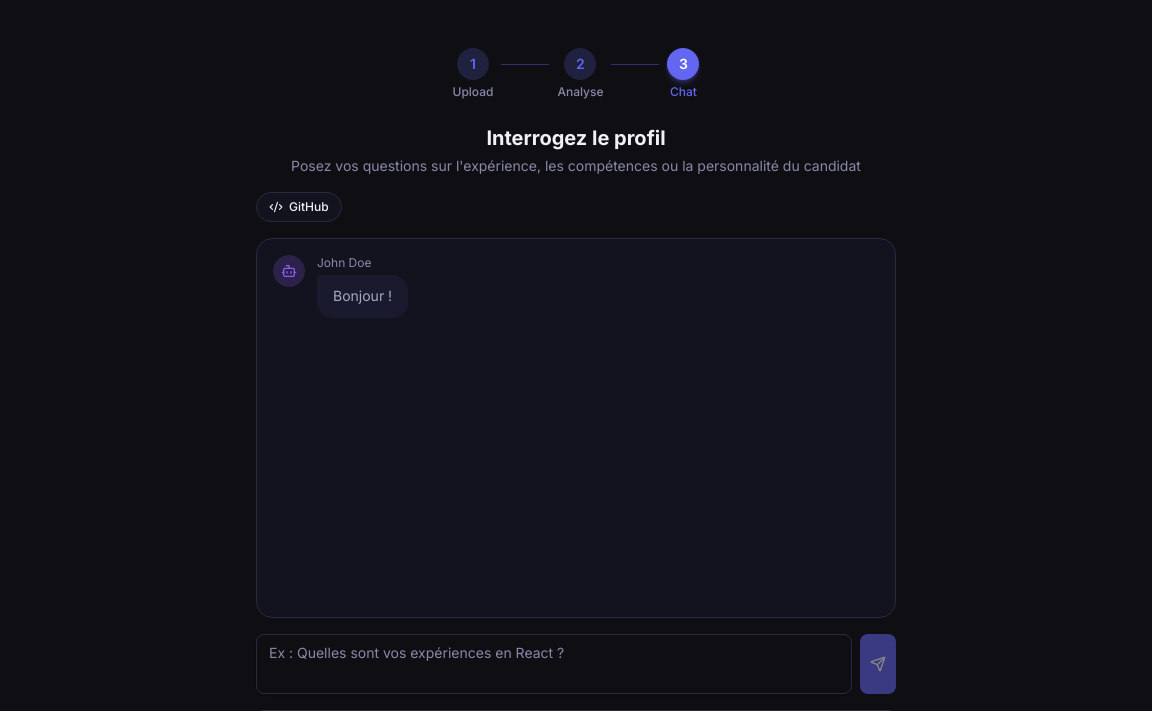
Test case: HomePage — Step 3 (Chat) › shows error toast when chat API fails
The image size is (1152, 711).
Type "Test" into the text box with placeholder "Ex : Quelles sont vos expériences en React ?" at (554, 664), box [256,634,852,694]
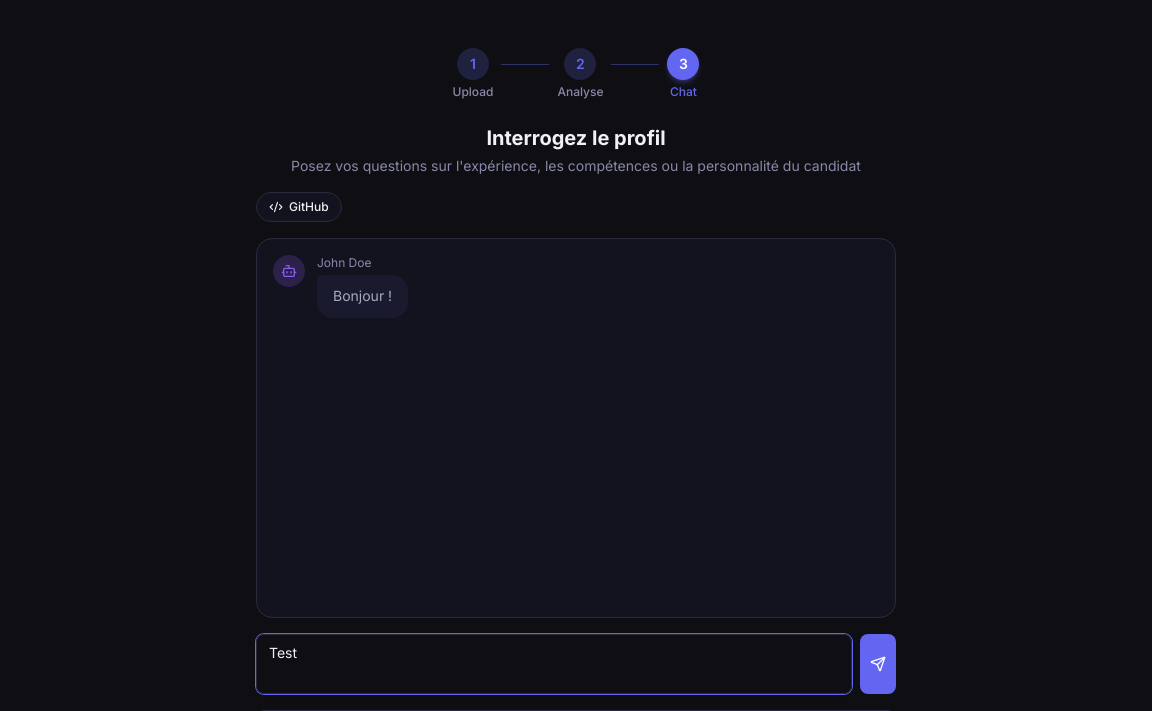
Click the button named "envoyer" at (878, 664), box [860,634,896,694]
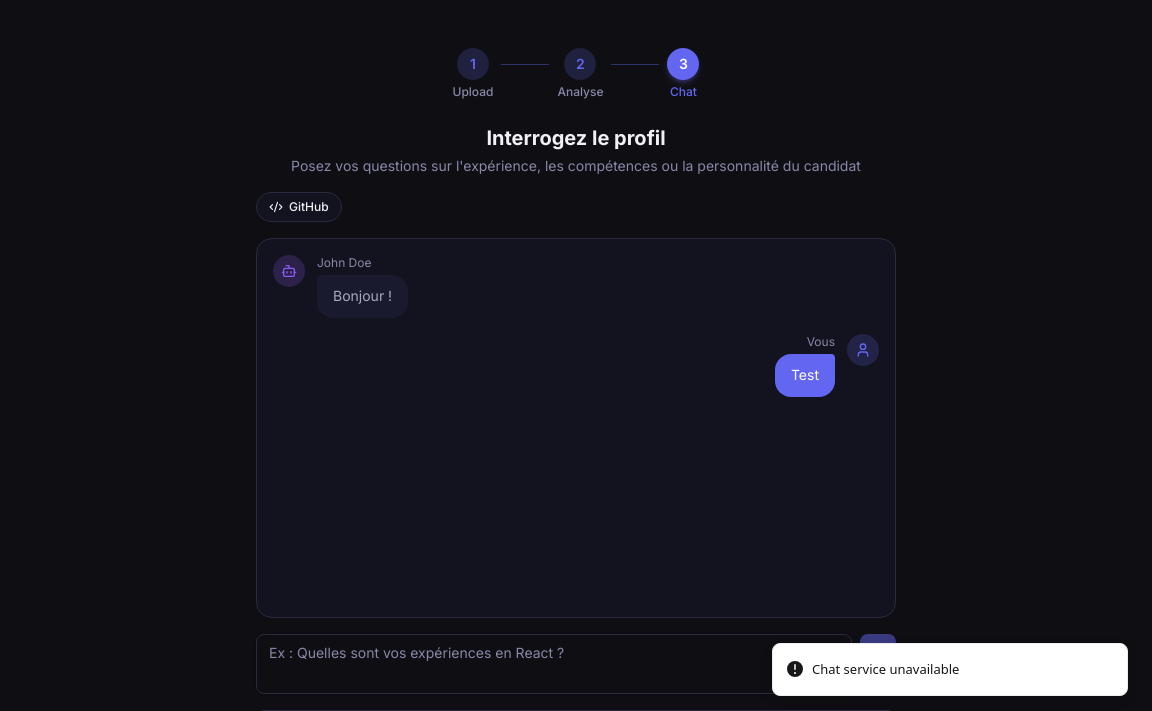
expect the text "Chat service unavailable" is shown: met, box [812,660,959,679]
